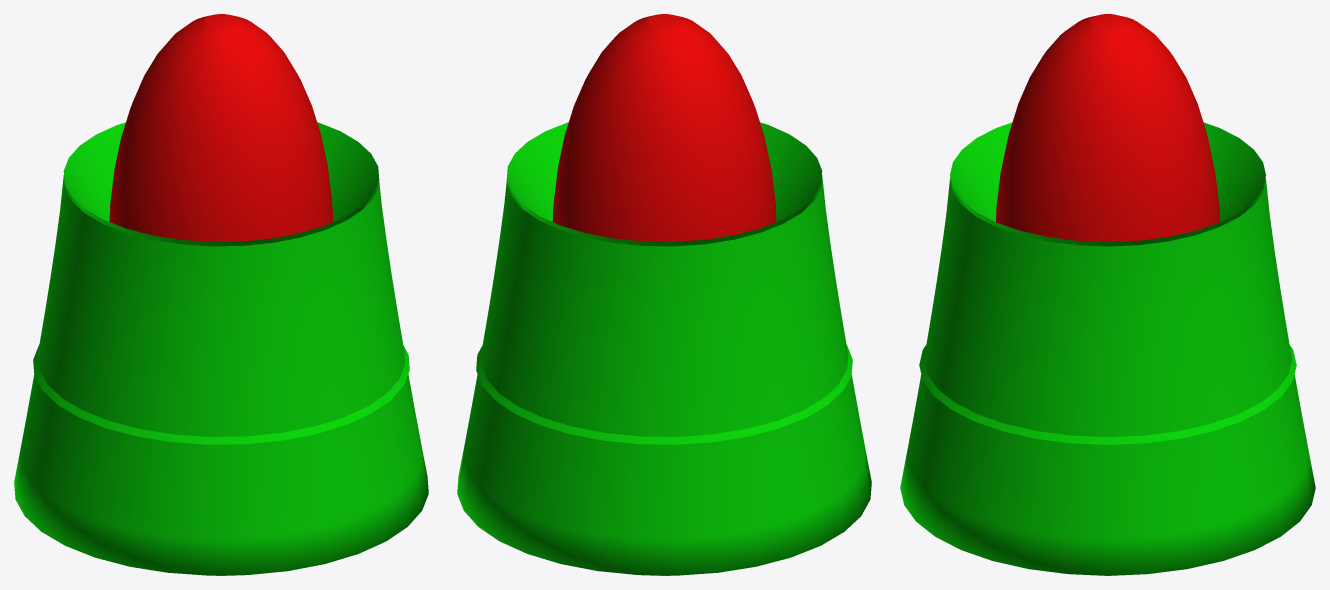
The model's file is InkCap_Growth.glb.
3 views of the same model, side by side, from view 1: azimuth 30°, elevation 25°; view 2: azimuth 150°, elevation 25°; view 3: azimuth 270°, elevation 25° (orthographic).
Visible parts, largest first — view 1: InkCap; view 2: InkCap; view 3: InkCap.
Boxes of the visible parts, bbox=[...] form: InkCap: bbox=[14, 14, 428, 575]; InkCap: bbox=[457, 14, 871, 575]; InkCap: bbox=[900, 14, 1315, 575].
Bounding box in the file's own units: 0.0184 × 0.0272 × 0.0184.
